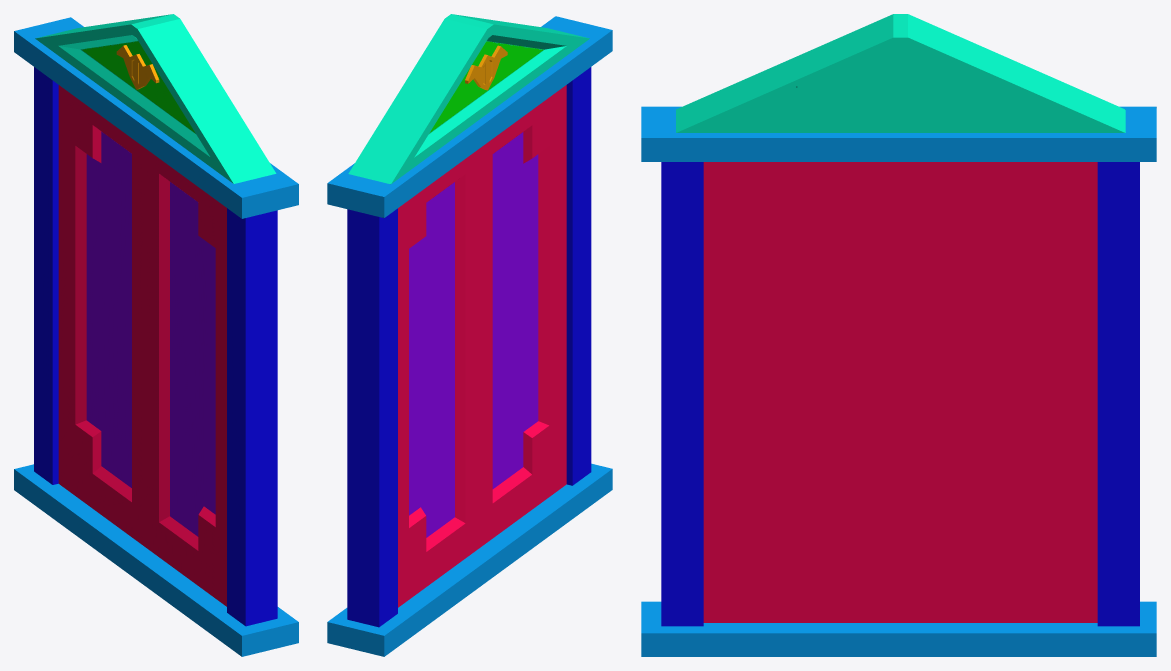
The model's file is Door.fbx.
3 renders of one model, left to right at view 1: azimuth 30°, elevation 25°; view 2: azimuth 150°, elevation 25°; view 3: azimuth 270°, elevation 25°, orthographic. The views are drawn at different scales.
Parts seen in each view (by area): view 1: Door_Frame, Door.R, Door.L; view 2: Door_Frame, Door.L, Door.R; view 3: Door_Frame, Door.L, Door.R.
Part boxes in pixels (bbox=[...]): Door_Frame: bbox=[14, 14, 298, 656]; Door.R: bbox=[58, 85, 145, 546]; Door.L: bbox=[145, 149, 226, 606]; Door_Frame: bbox=[327, 14, 612, 656]; Door.L: bbox=[479, 85, 566, 547]; Door.R: bbox=[398, 149, 479, 607]; Door_Frame: bbox=[641, 14, 1156, 656]; Door.L: bbox=[703, 162, 900, 622]; Door.R: bbox=[901, 162, 1097, 622].
Bounding box in the file's own units: 5.64 × 39.16 × 51.62.
